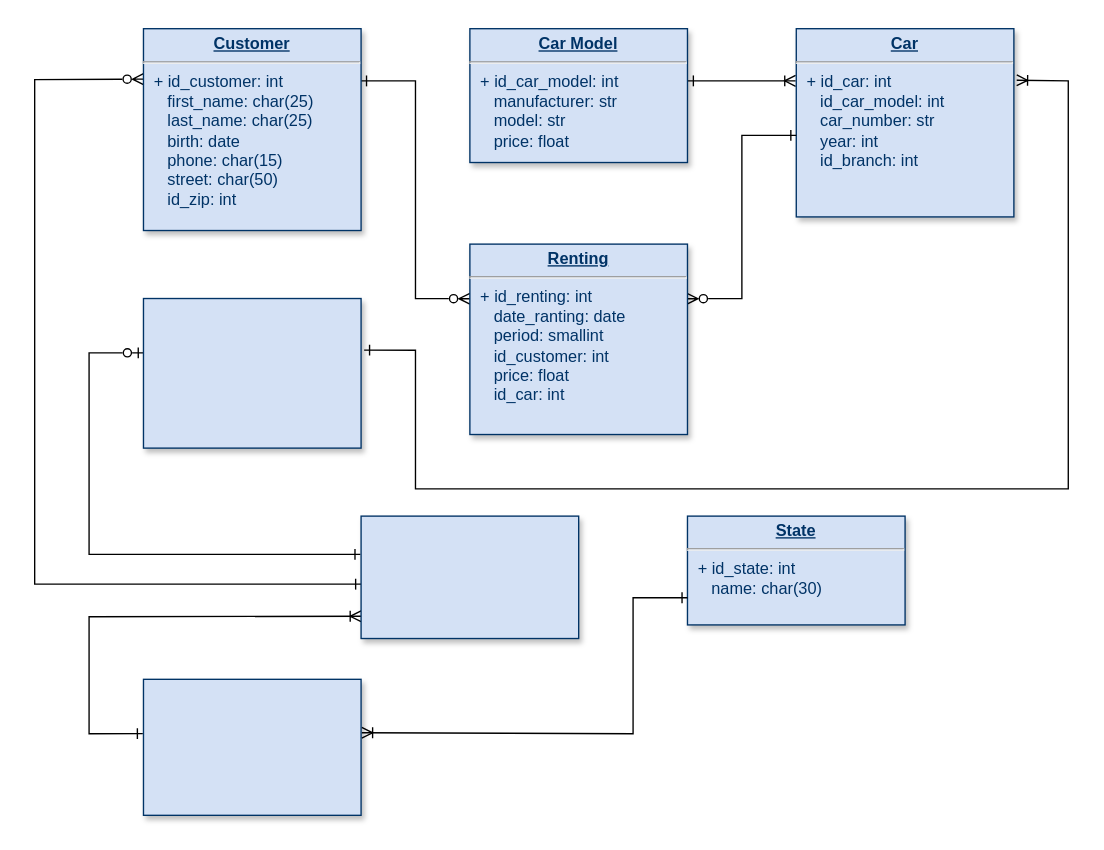
This 1104x850 diagram has some shape labels left out. Each missing label, with the centre of its shape:
"Branch + id_branch: int phone: char(15) street: char(50) id_zip: int" goes at [253,375].
"City + id_city: int name: char(30) id_state: int" goes at [253,749].
"Zip + id_zip: int zip_value: char(20) id_city: int" goes at [470,578].
